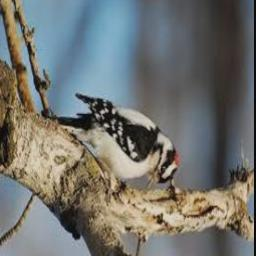Woodpecker: (49, 93, 178, 192)
